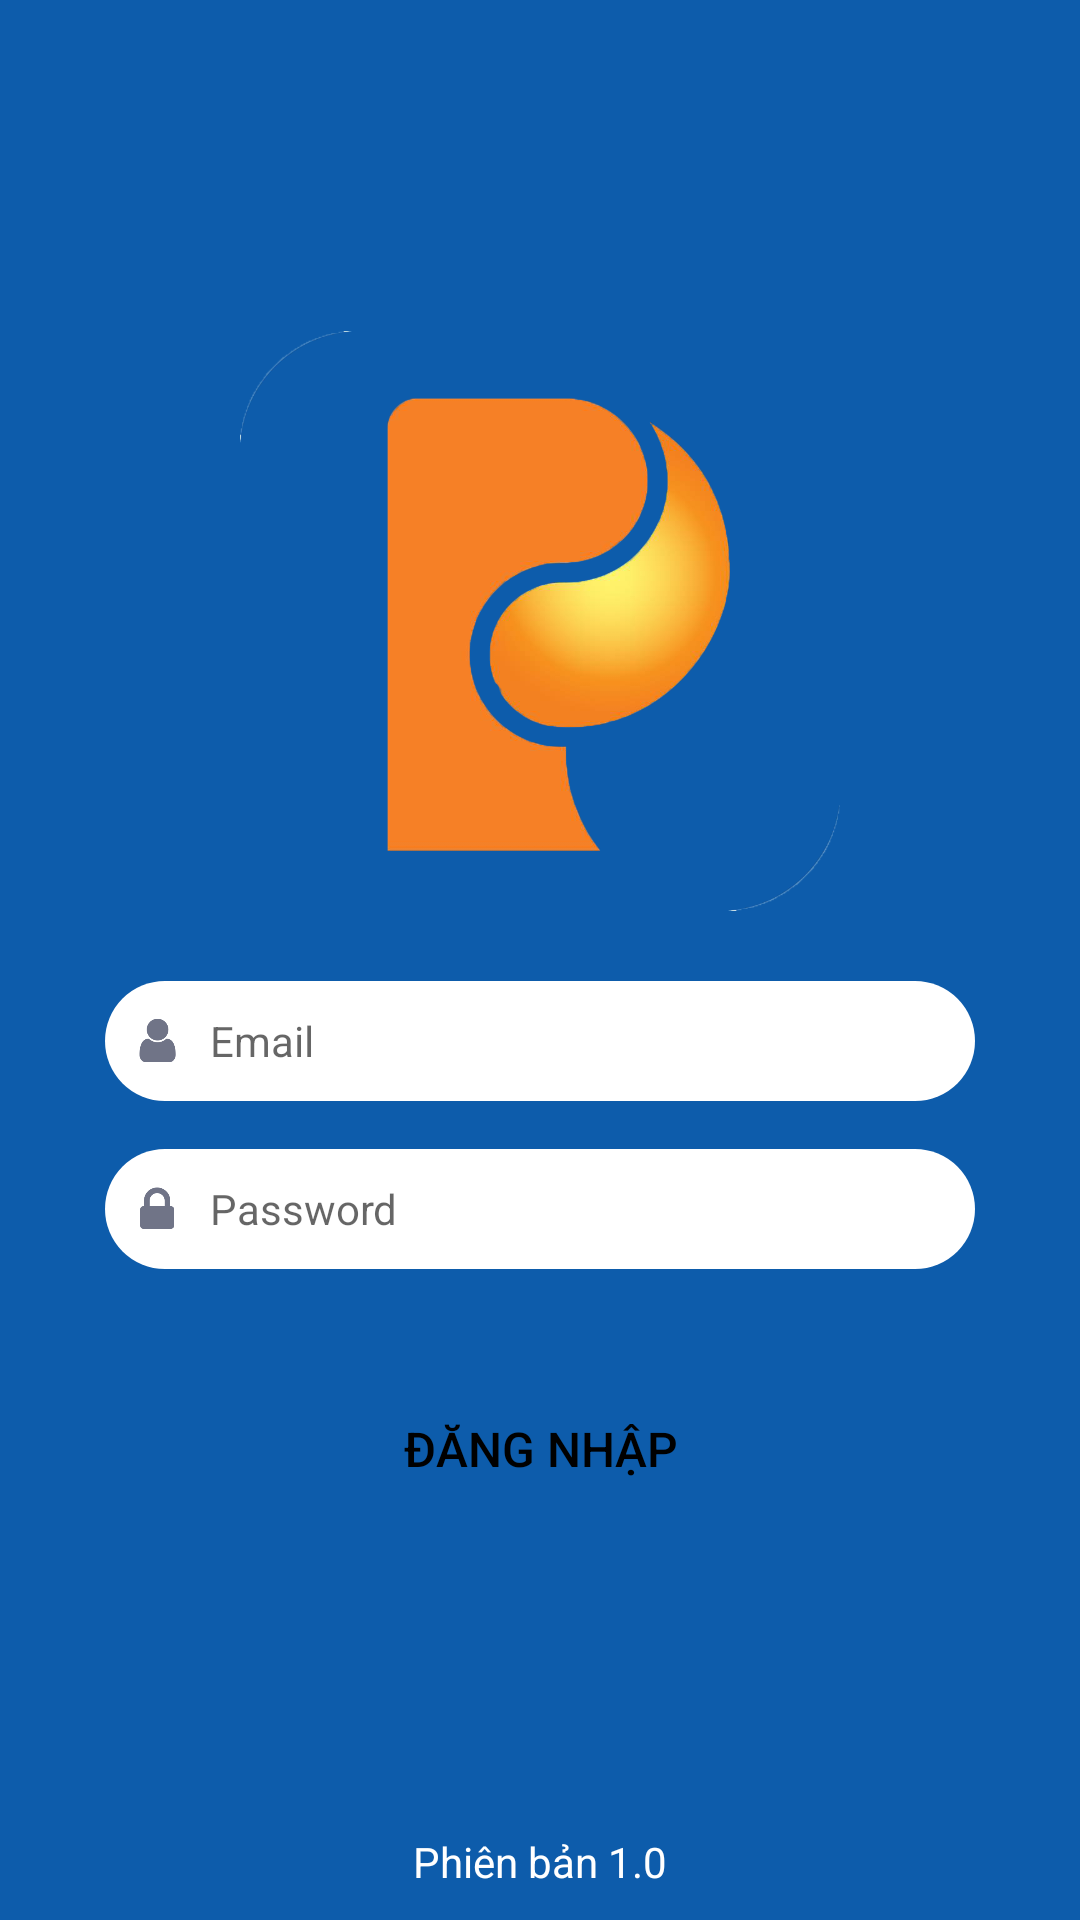

Named icons in this screenshot (1080*1920) and their centers, point (x, y):
user: point (157, 1040)
